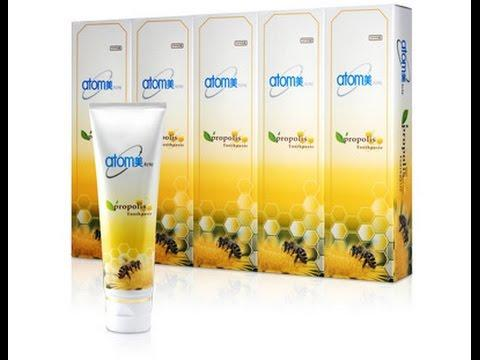toothpaste: (87, 102, 175, 335)
